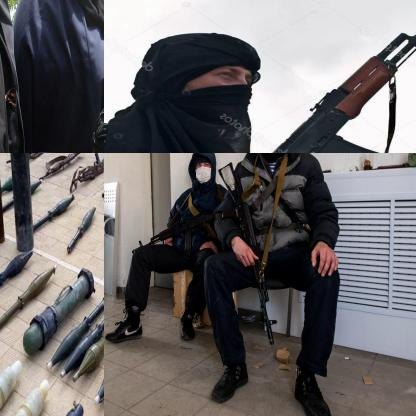rifle: (239, 0, 415, 152), (217, 161, 279, 346), (134, 212, 221, 250)
